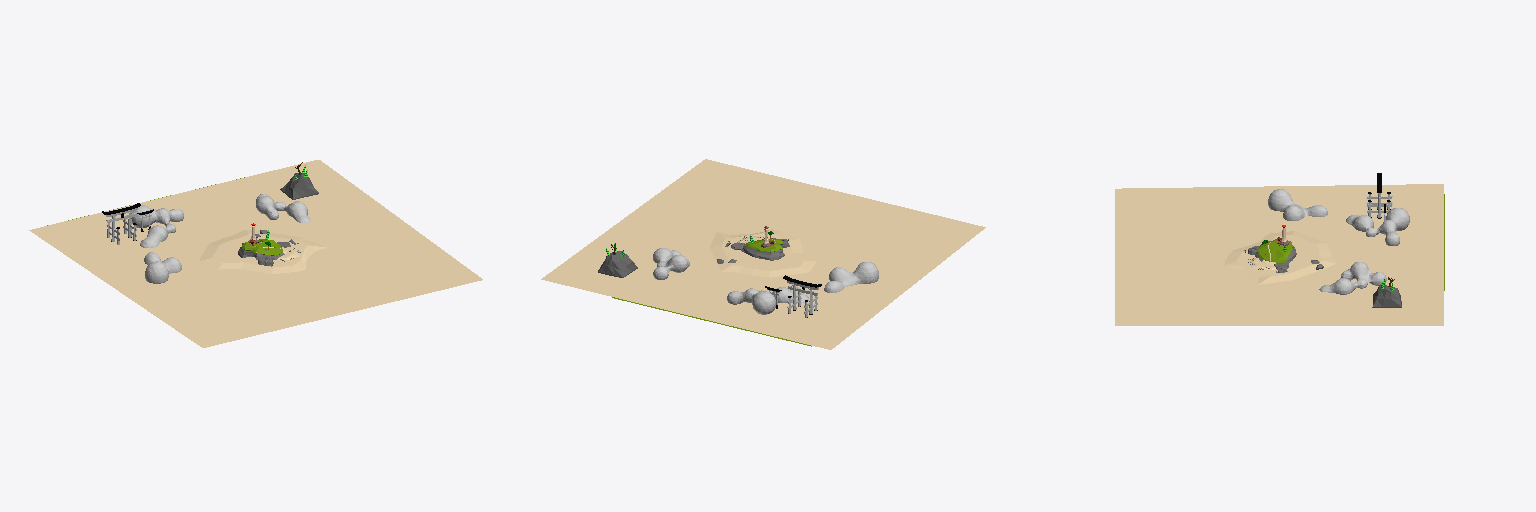
The picture shows the model from 3 angles: view 1: azimuth 30°, elevation 25°; view 2: azimuth 150°, elevation 25°; view 3: azimuth 270°, elevation 25°; orthographic projection.
Parts seen in each view (by area): view 1: Cube.007, Mball.003, Cube.013; view 2: Cube.007, Mball.003, Cube.013; view 3: Cube.007, Mball.003, Cube.013, grass.
Part boxes in pixels (bbox=[...]): Cube.007: bbox=[29, 160, 482, 347]; Mball.003: bbox=[131, 194, 310, 283]; Cube.013: bbox=[280, 173, 318, 199]; Cube.007: bbox=[541, 159, 985, 349]; Mball.003: bbox=[653, 248, 878, 314]; Cube.013: bbox=[598, 251, 637, 277]; Cube.007: bbox=[1115, 184, 1443, 325]; Mball.003: bbox=[1268, 189, 1409, 294]; Cube.013: bbox=[1372, 285, 1401, 307]; grass: bbox=[1257, 239, 1292, 262].
Bounding box in the file's own units: 21.25 × 4.56 × 20.95.
43 materials, 27 textured.